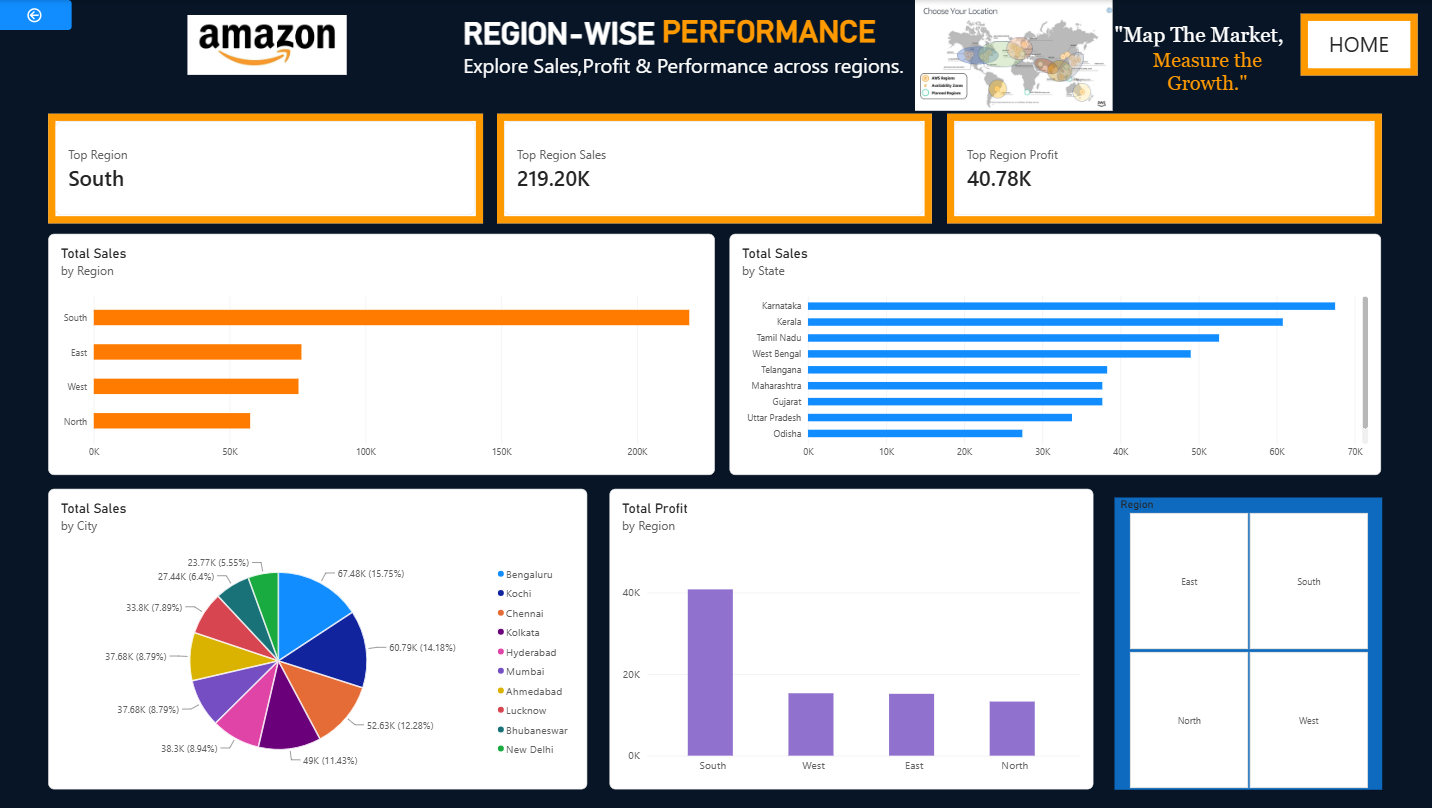

The dashboard page shown, as its layout file describes it:
{"tool":"powerbi","page":{"name":"region_wise_performance","canvas":[1920,1080],"ordinal":3},"visuals":[{"type":"textbox","title":"REGION-WISE","box":[622,20,672,98],"z":0},{"type":"textbox","title":"PERFORMANCE","box":[888,18,372.8,81.4],"z":1000},{"type":"actionButton","box":[1740.9,18.1,156,82],"z":2000},{"type":"cardVisual","fields":{"Data":["REGION.Top Region"]},"box":[68.8,152,580.9,146.6],"z":3000},{"type":"cardVisual","fields":{"Data":["REGION.Top Region Sales"]},"box":[667.8,152,580.9,146.6],"z":4000},{"type":"cardVisual","fields":{"Data":["REGION.Top Region Profit"]},"box":[1268.6,152,580.9,146.6],"z":5000},{"type":"clusteredBarChart","fields":{"Category":["REGION.Region"],"Y":["FACT_TABLE.Total Sales"]},"box":[68.8,313.1,890.4,322.1],"z":6000},{"type":"barChart","fields":{"Y":["FACT_TABLE.Total Sales"],"Category":["REGION.State"]},"box":[979,313.1,870.4,322.1],"z":7000},{"type":"pieChart","fields":{"Category":["REGION.City"],"Y":["FACT_TABLE.Total Sales"]},"box":[68.8,653.3,720.2,401.7],"z":8000},{"type":"columnChart","fields":{"Y":["FACT_TABLE.Total Profit"],"Category":["REGION.Region"]},"box":[818,653.3,646,401.7],"z":9000},{"type":"slicer","fields":{"Values":["REGION.Region"]},"box":[1492.5,665,357.5,390],"z":10000},{"type":"actionButton","box":[0,0,100,40],"z":11000},{"type":"image","box":[209.9,19.9,300.4,79.6],"z":12000},{"type":"image","box":[1221.5,0,271.4,148.4],"z":13000},{"type":"textbox","title":"\"Map The Market,","box":[1493,30.8,266,68.8],"z":14000},{"type":"textbox","title":"Measure the Growth.\"","box":[1493,65.1,247.9,67],"z":15000}]}

Visuals, with their boxes in screenshot pixels (x1, y1, x2, y2), scaled from the page's 1920x1080 canvas onto the 1432x808 screenshot:
"REGION-WISE" textbox: [464,15,965,88]
"PERFORMANCE" textbox: [662,13,940,74]
actionButton: [1298,14,1415,75]
cardVisual - REGION.Top Region: [51,114,485,223]
cardVisual - REGION.Top Region Sales: [498,114,931,223]
cardVisual - REGION.Top Region Profit: [946,114,1379,223]
clusteredBarChart - REGION.Region x FACT_TABLE.Total Sales: [51,234,715,475]
barChart - FACT_TABLE.Total Sales x REGION.State: [730,234,1379,475]
pieChart - REGION.City x FACT_TABLE.Total Sales: [51,489,588,789]
columnChart - FACT_TABLE.Total Profit x REGION.Region: [610,489,1092,789]
slicer - REGION.Region: [1113,498,1380,789]
actionButton: [0,0,75,30]
image: [157,15,381,74]
image: [911,0,1113,111]
""Map The Market," textbox: [1114,23,1312,75]
"Measure the Growth."" textbox: [1114,49,1298,99]
